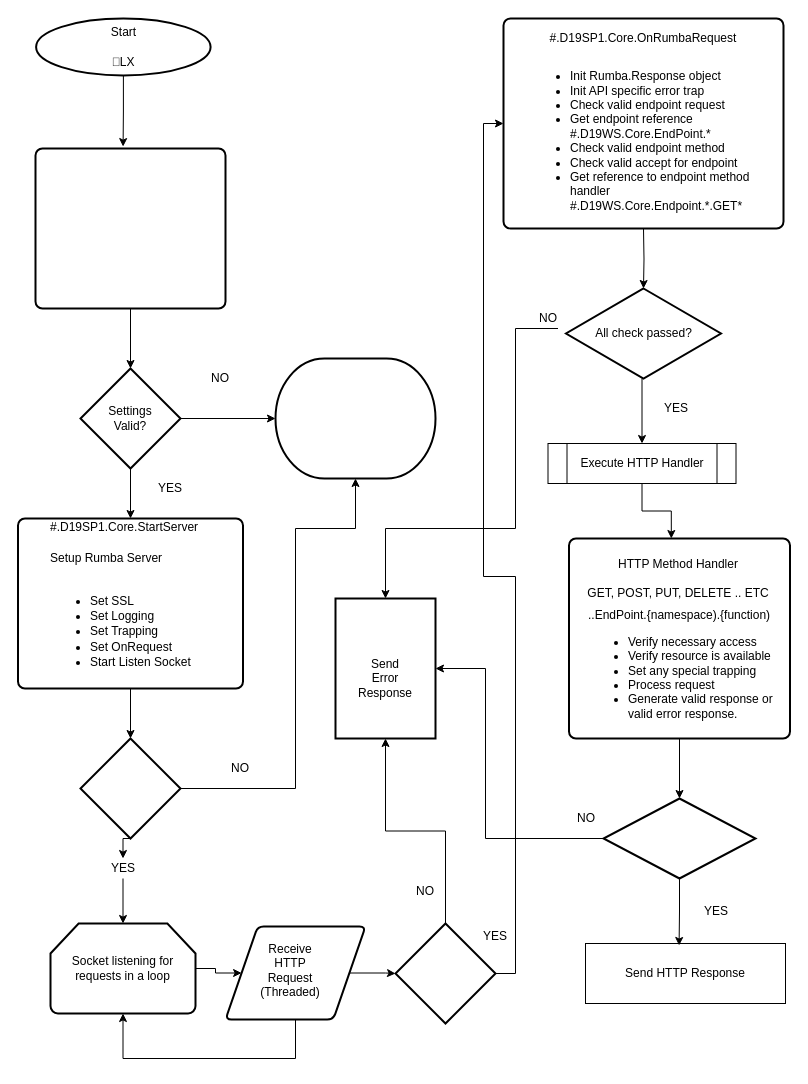
Some shapes in this 808 by 1084 pixel diagram are drawn without their labels. Here are the shapes that lost their labels. From the top down, the box of each, then its label:
(34, 147, 226, 309): #.D19SP1.Core.Init 0 Set Environment Set Variables Print Settings to Session
(274, 357, 436, 479): Exit Print Error to Session (Exit App)
(79, 737, 181, 839): Socket OK?
(602, 797, 756, 879): Valid Response Generated?
(394, 922, 496, 1024): Valid Request?
